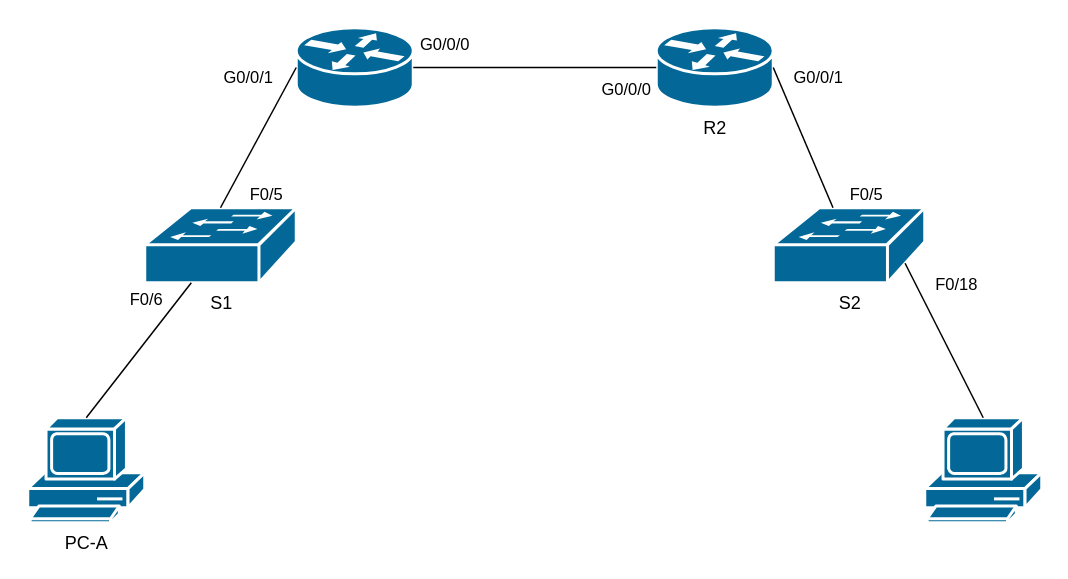
The diagram is 1068 pixels wide and 579 high, and some of its shapes have lost their labels. The shapes that lost their labels are listed below. From the top down, each one's box as (x1, y1, x2, y2) in pixels, then its label:
(294, 26, 414, 108): R1
(922, 416, 1042, 524): PC-B
